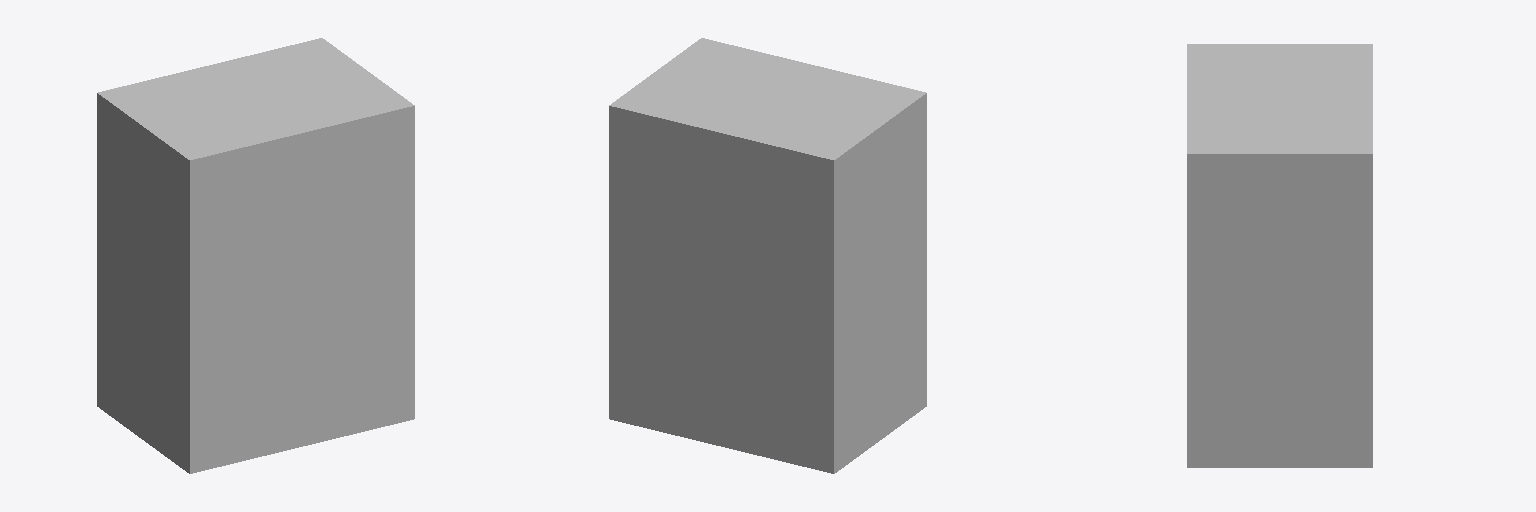
Rendered from archive.obj.
The picture shows the model from 3 angles: view 1: azimuth 30°, elevation 25°; view 2: azimuth 150°, elevation 25°; view 3: azimuth 270°, elevation 25°; orthographic projection.
Parts seen in each view (by area): view 1: Cube; view 2: Cube; view 3: Cube.
Part boxes in pixels (x1,y1,x2,y2): Cube: (97, 38, 414, 473); Cube: (609, 38, 926, 473); Cube: (1187, 44, 1372, 467).
Bounding box in the file's own units: 2 × 2.66 × 1.43.